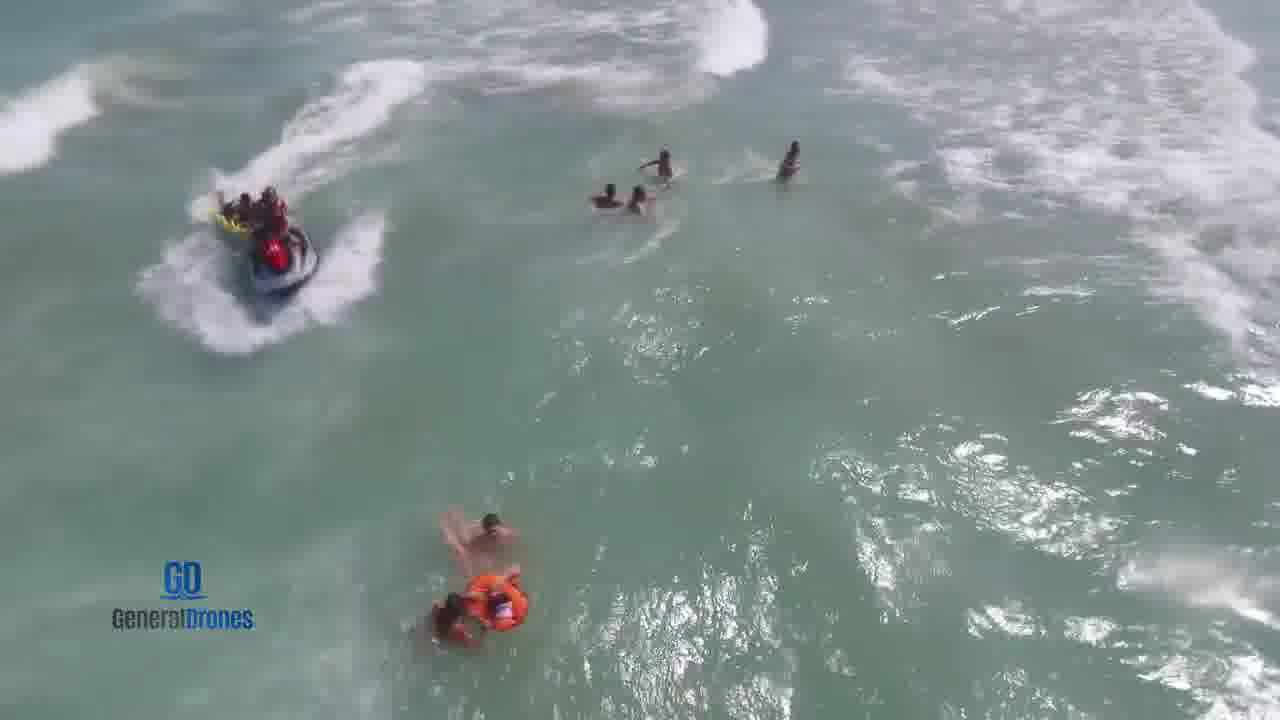human: (482, 578, 550, 633), (775, 126, 832, 189), (470, 502, 530, 543), (213, 181, 289, 211), (432, 592, 465, 641), (647, 141, 682, 179), (624, 175, 639, 228), (592, 176, 615, 209)
